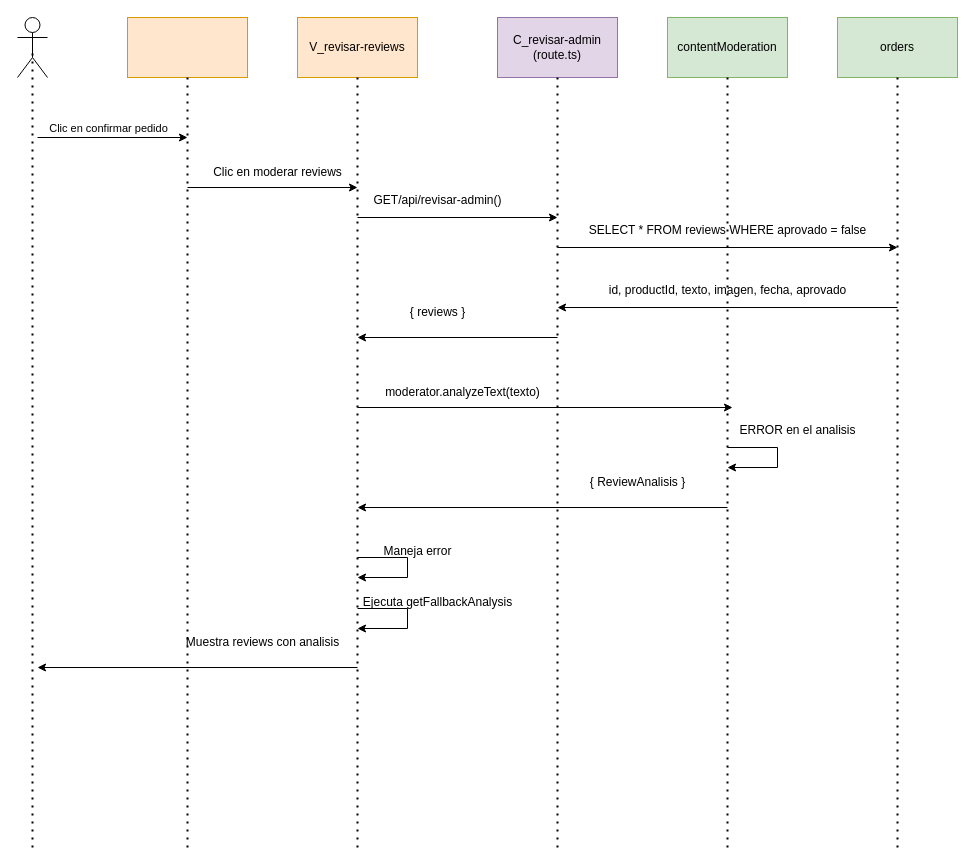
This 975x867 diagram has some shape labels left out. The shapes that lost their labels are listed below. From the top down, each one's box as (x1, y1, x2, y2) in pixels, then its label:
(16, 16, 48, 78): Actor
(126, 16, 248, 78): V_pagina-admin
